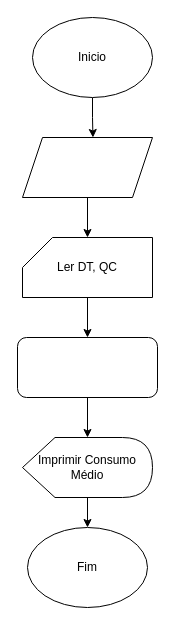
The diagram is 175 pixels wide and 625 high, and some of its shapes have lost their labels. The centre of each missing label's shape, as x and y in pixels:
"Consumo Médio = 0" goes at pixel 87 167.
"Consumo Médio = DT/QC" goes at pixel 87 367.
